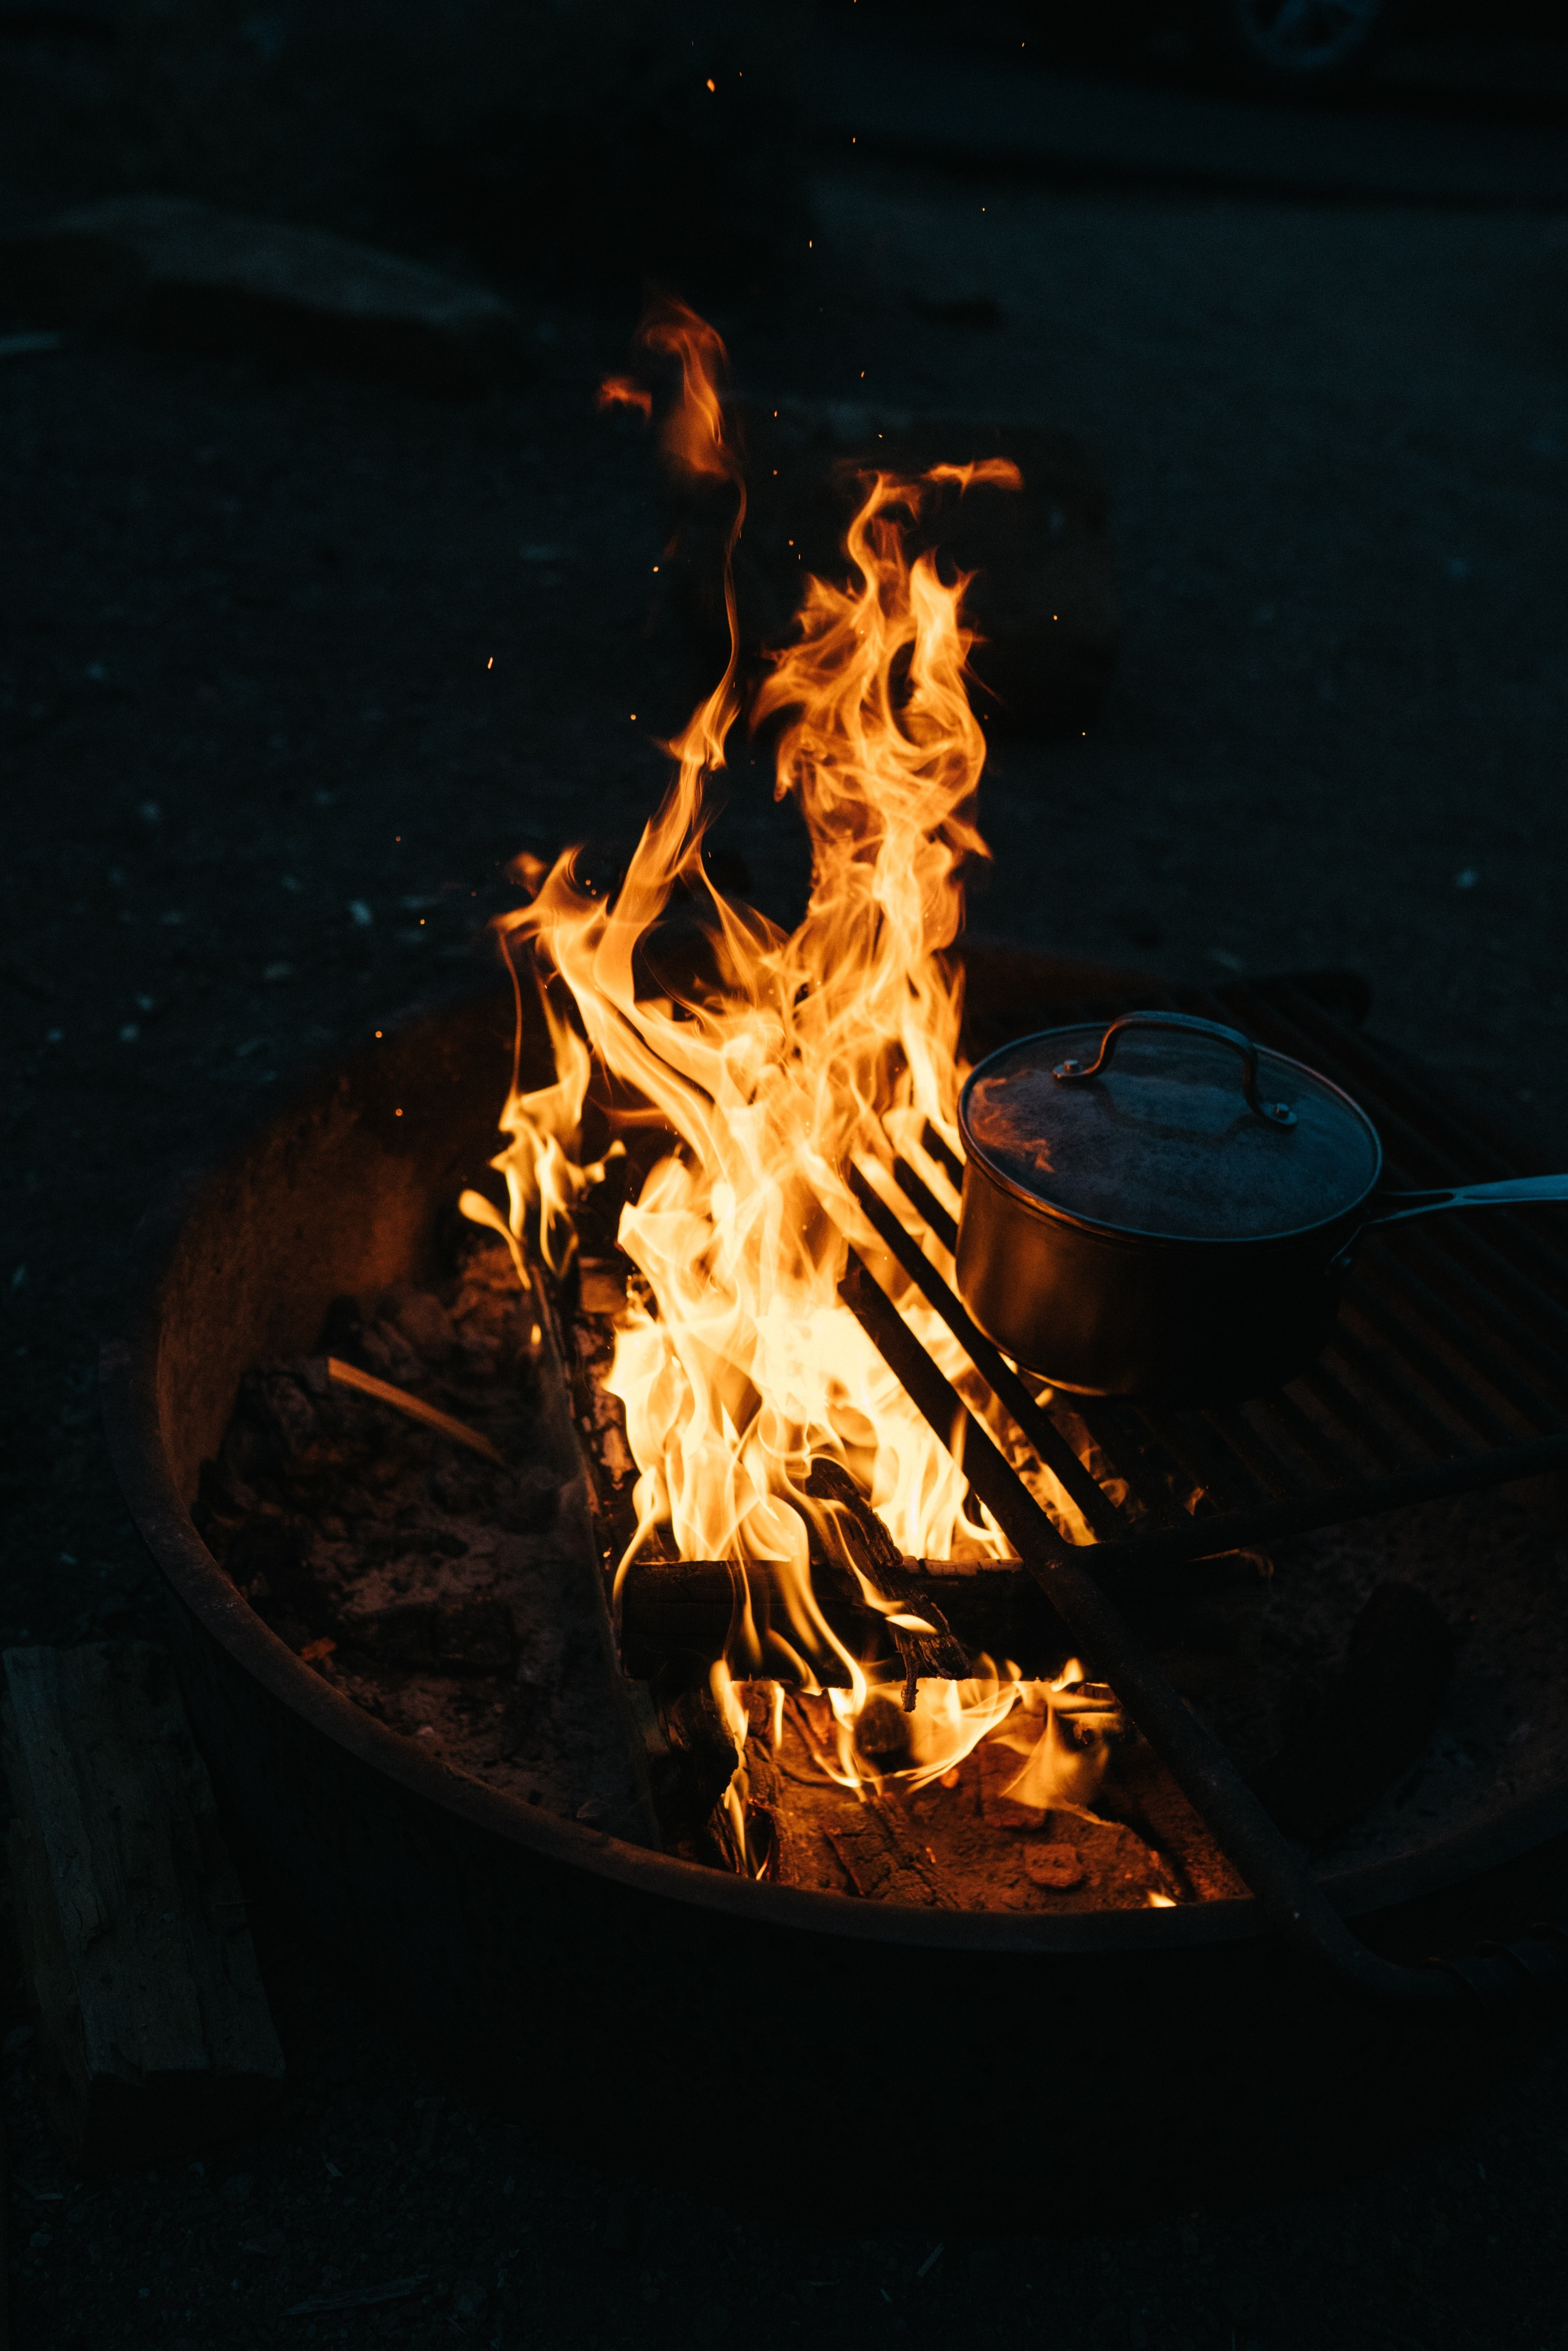fire: (455, 424, 1111, 1819)
